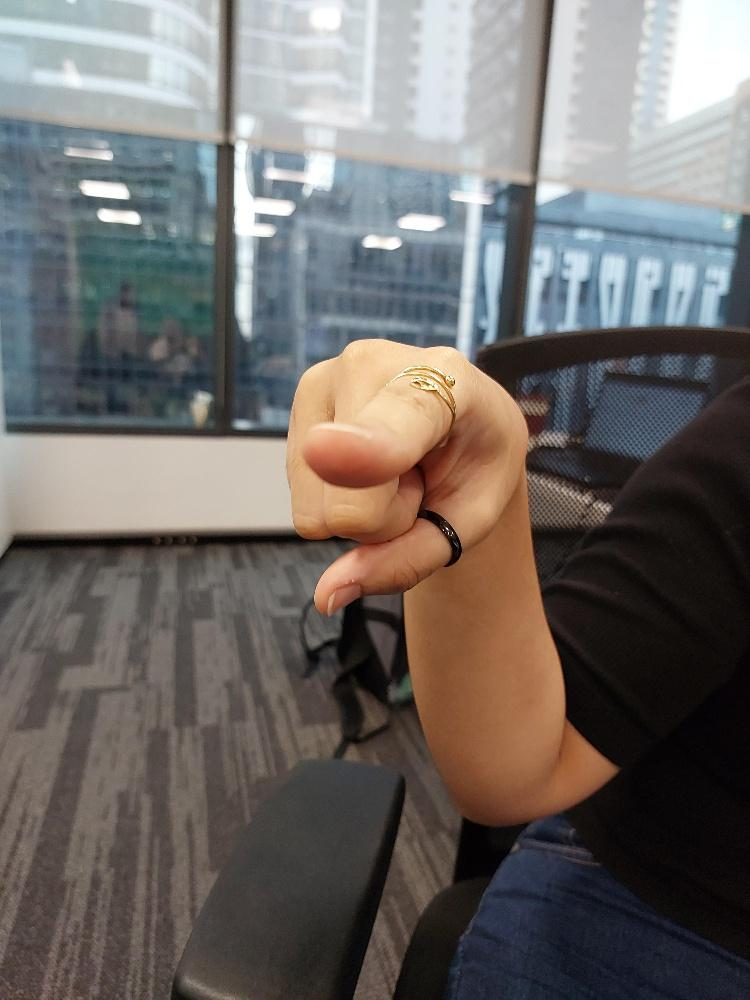z: (281, 331, 531, 619)
